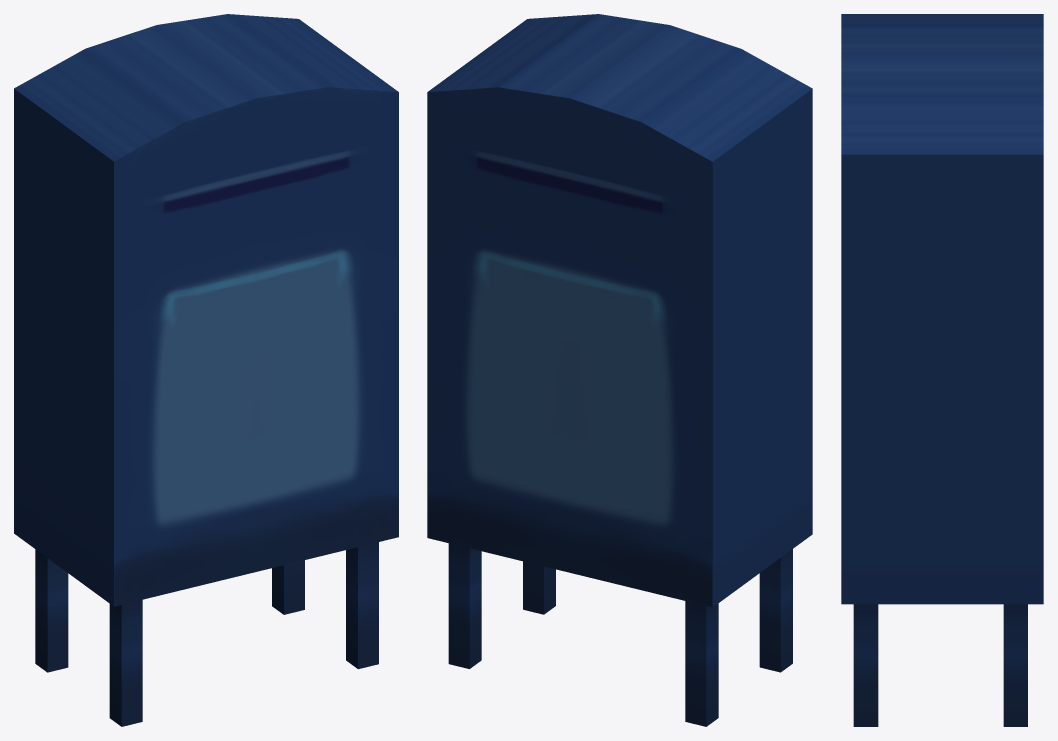
The model's file is Diario.fbx.
The picture shows the model from 3 angles, left to right: view 1: azimuth 30°, elevation 25°; view 2: azimuth 150°, elevation 25°; view 3: azimuth 270°, elevation 25°; orthographic projection.
Visible parts, largest first — view 1: Diario; view 2: Diario; view 3: Diario.
Part boxes in pixels (bbox=[...]): Diario: bbox=[14, 14, 398, 726]; Diario: bbox=[427, 14, 812, 726]; Diario: bbox=[841, 14, 1043, 726].
Bounding box in the file's own units: 160 × 322 × 97.06.
